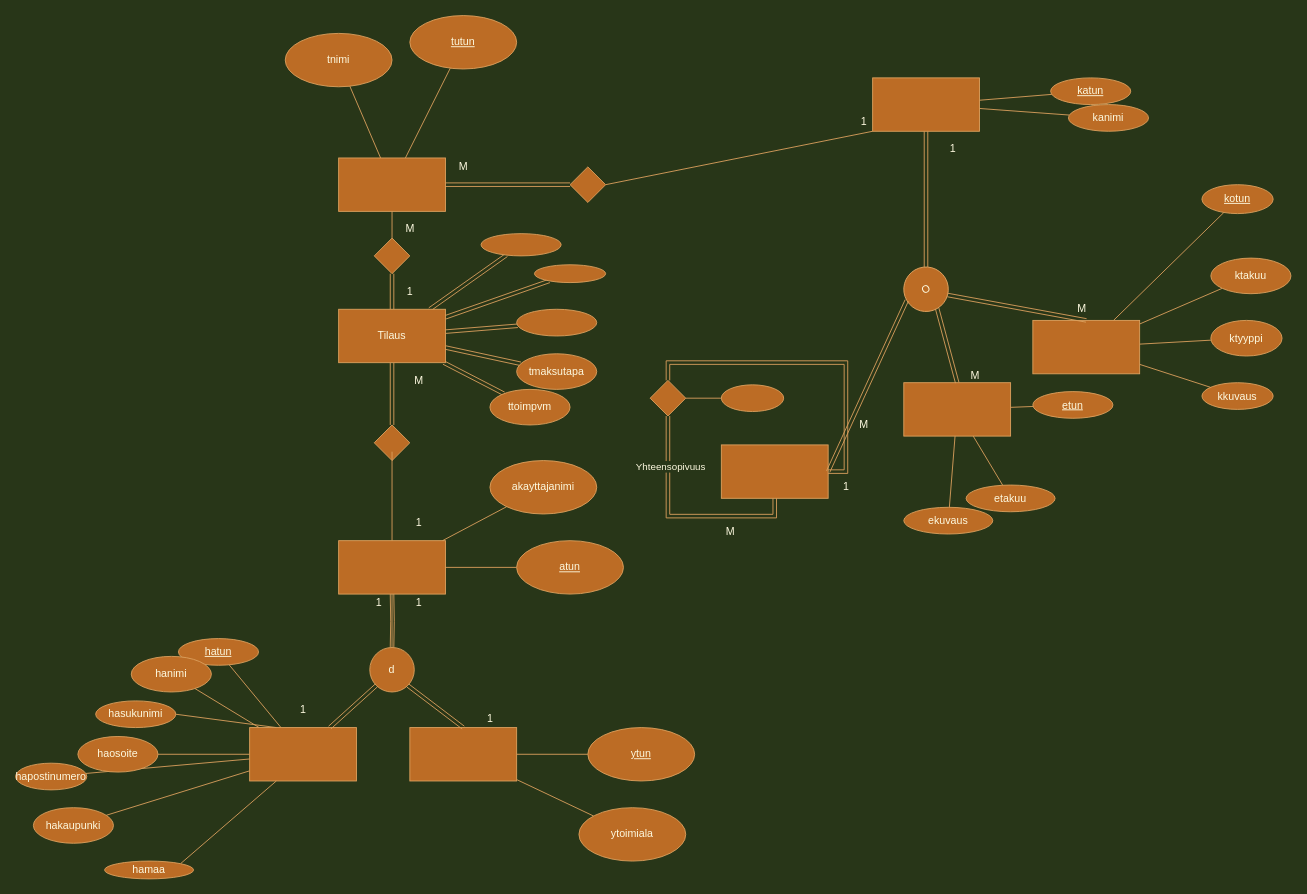
The diagram is 1307 pixels wide and 894 high, and some of its shapes have lost their labels. The shapes that lost their labels are listed below. From the top down, each one's centre as x and y in pixels, then its label:
At (x=925, y=104): "Kategoria".
At (x=391, y=184): "Tuote".
At (x=520, y=244): "ttun".
At (x=570, y=273): "tpvm".
At (x=556, y=322): "toimtun".
At (x=1086, y=347): "Kodinkone".
At (x=752, y=398): "tatun".
At (x=957, y=409): "Elektroniikka".
At (x=774, y=471): "Tarvike".
At (x=391, y=567): "Asiakas".
At (x=302, y=754): "Henkilöasiakas".
At (x=463, y=754): "Yritys".
